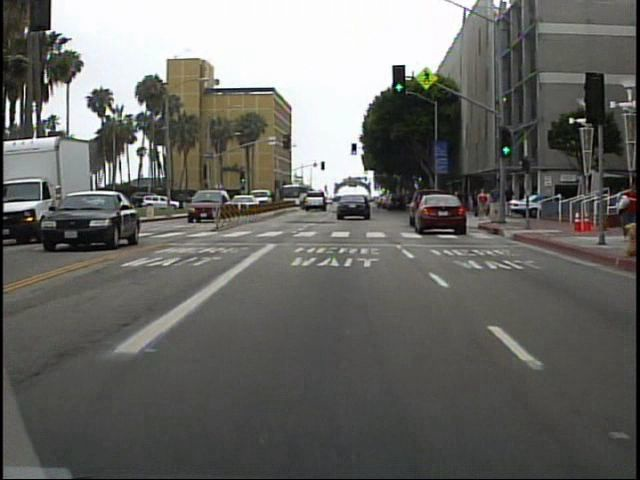person: (473, 186, 489, 224), (489, 183, 502, 220), (504, 183, 517, 217)
